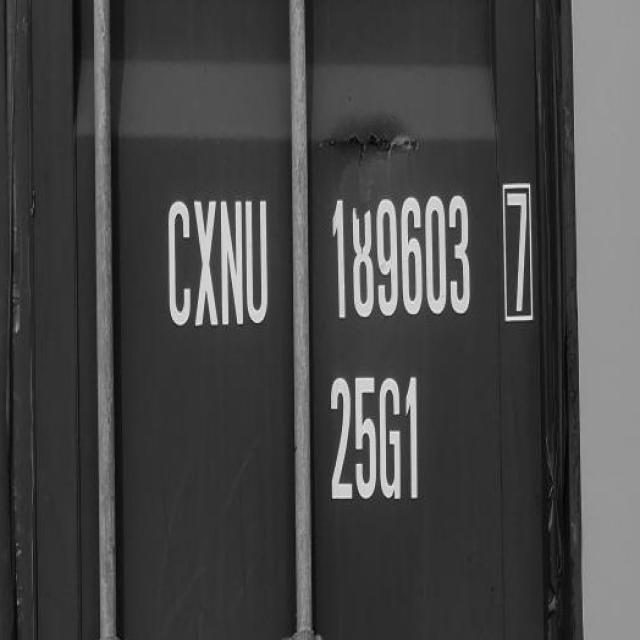dv: (494, 175, 545, 328)
owner: (165, 187, 274, 336)
serial: (318, 185, 480, 328)
size: (323, 370, 430, 513)
